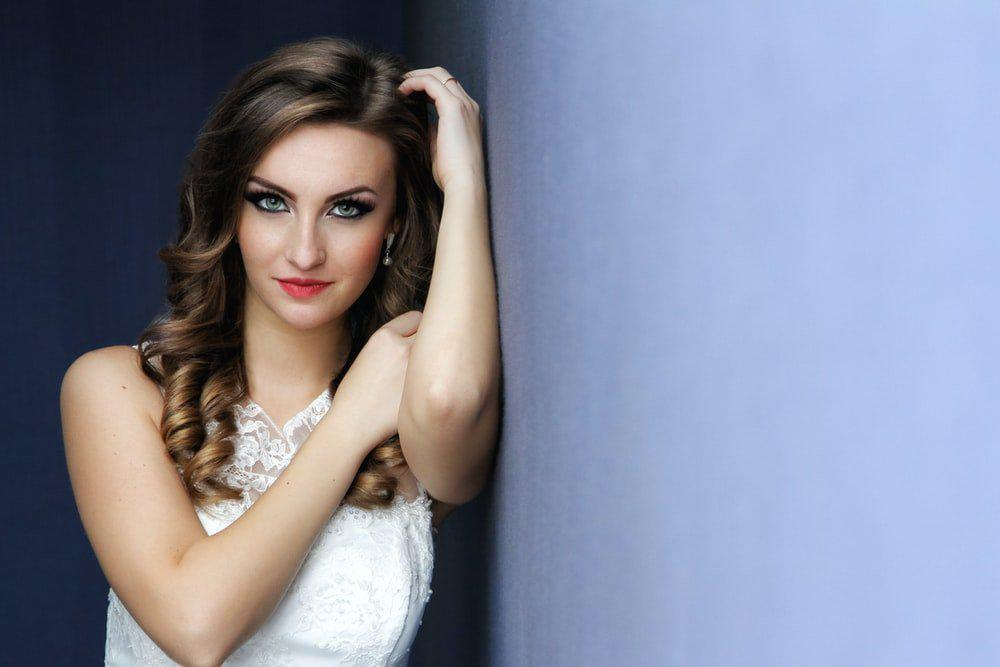Sober: (238, 130, 393, 323)
